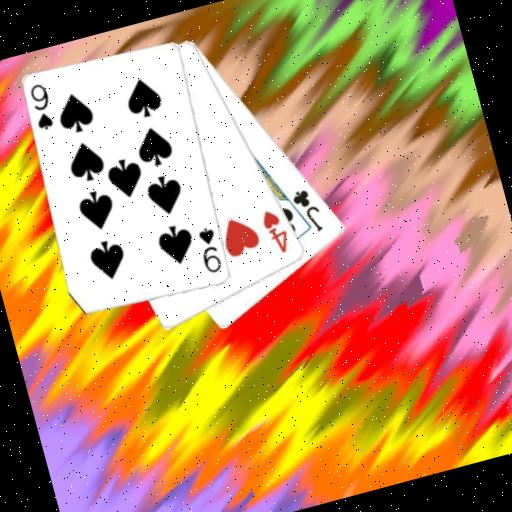4H: (257, 204, 294, 258)
9S: (25, 79, 59, 134), (191, 222, 225, 276)
JC: (287, 183, 327, 238)
